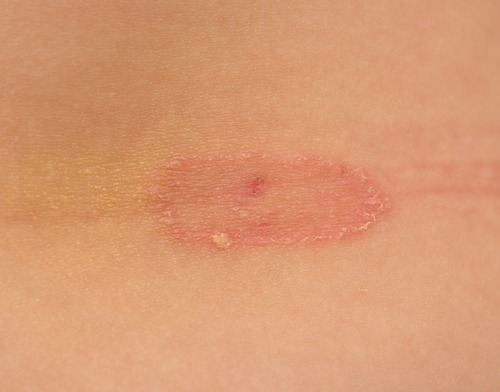Ringworm: (134, 142, 406, 268)
